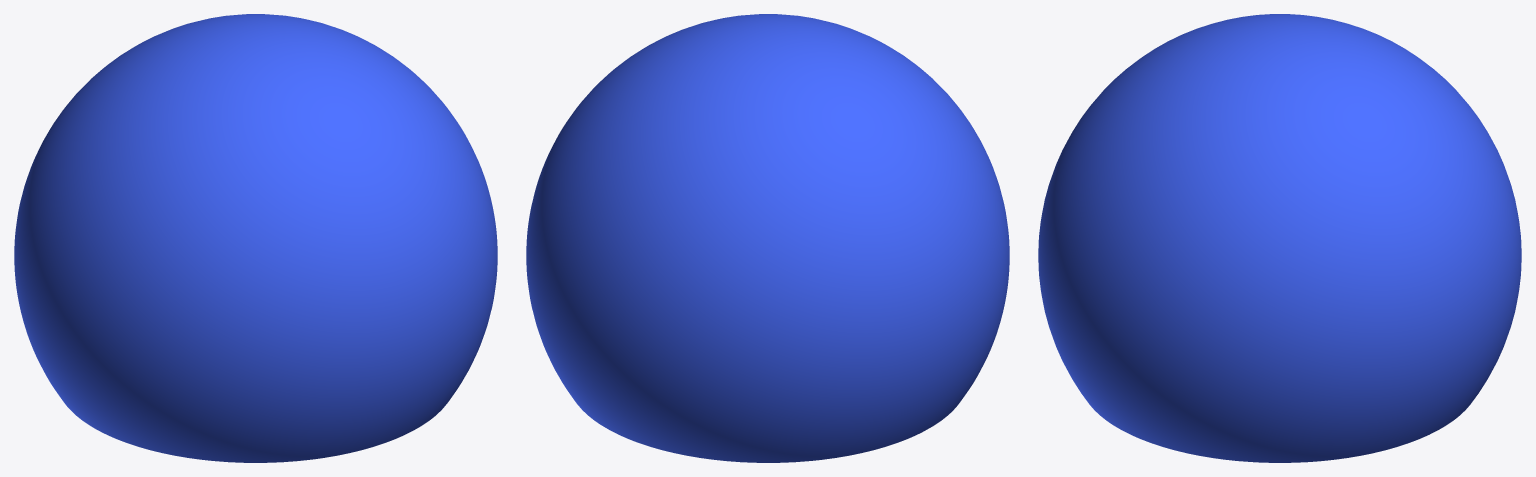
The model's file is Bolletje 2.5cm (1).glb.
The picture shows the model from 3 angles, left to right: view 1: azimuth 30°, elevation 25°; view 2: azimuth 150°, elevation 25°; view 3: azimuth 270°, elevation 25°; orthographic projection.
Bounding box in the file's own units: 0.025 × 0.0195 × 0.025.
